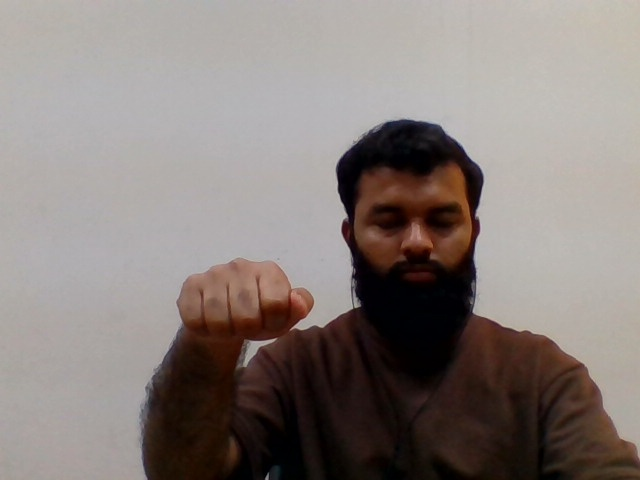Yes: (138, 237, 331, 368)
